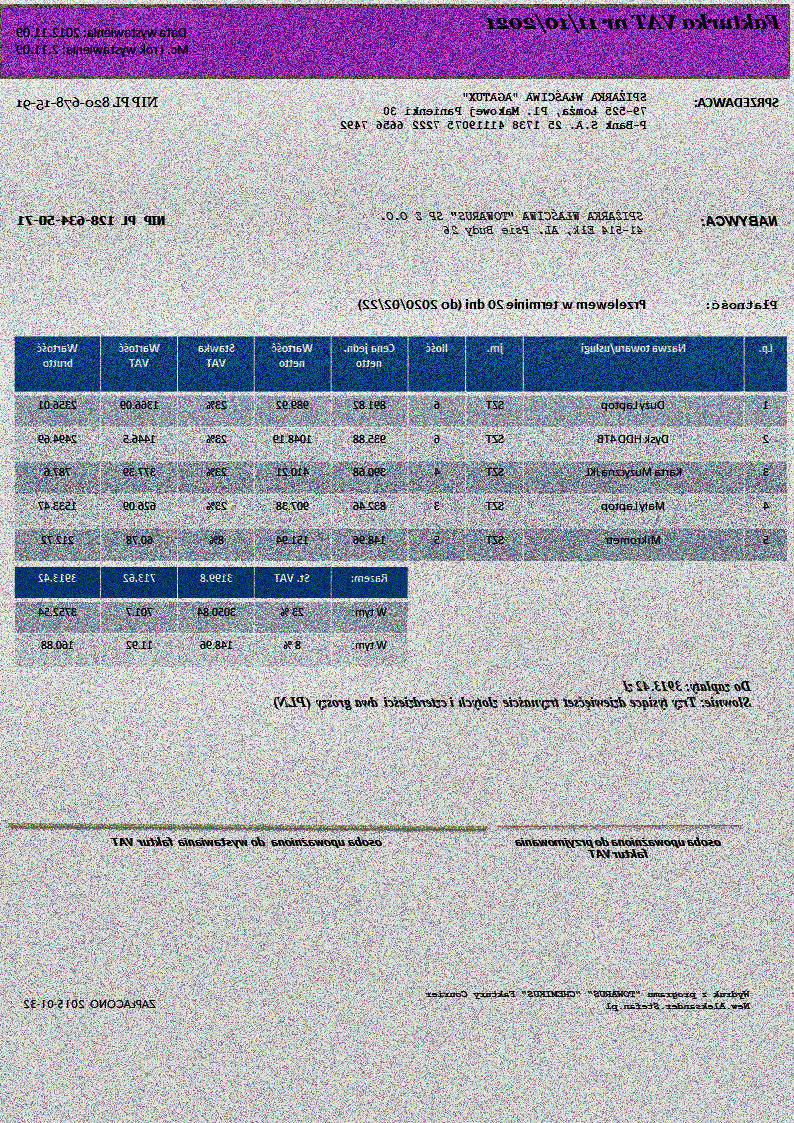Table: (14, 333, 790, 562), (14, 565, 409, 668)
TextBox: (271, 676, 755, 713), (339, 88, 652, 133), (423, 987, 754, 1014), (378, 207, 647, 238), (485, 10, 784, 34), (13, 23, 193, 57), (514, 833, 724, 861), (107, 833, 385, 852), (356, 297, 649, 314), (16, 211, 168, 229), (15, 94, 163, 112), (22, 995, 160, 1014), (693, 93, 782, 110), (700, 211, 781, 229), (703, 295, 780, 313)
